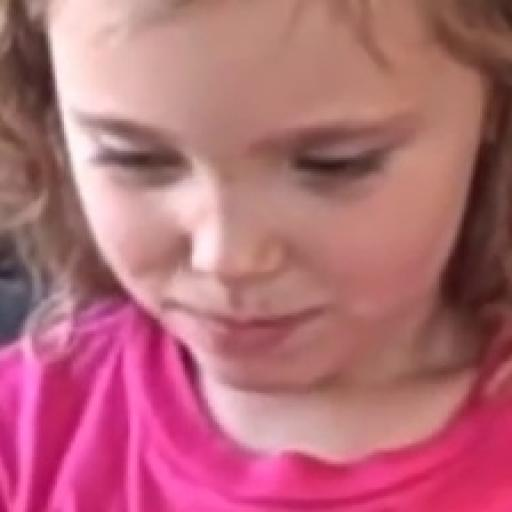Autism: (18, 1, 512, 381)
